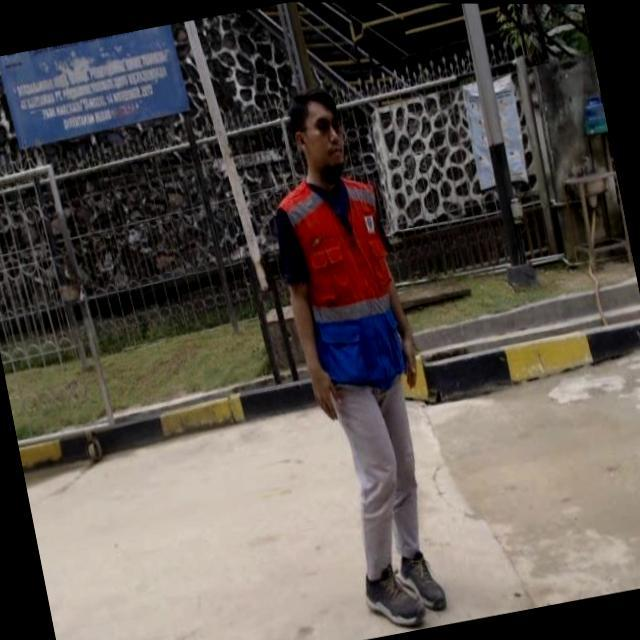goggles_on: (297, 113, 346, 137)
